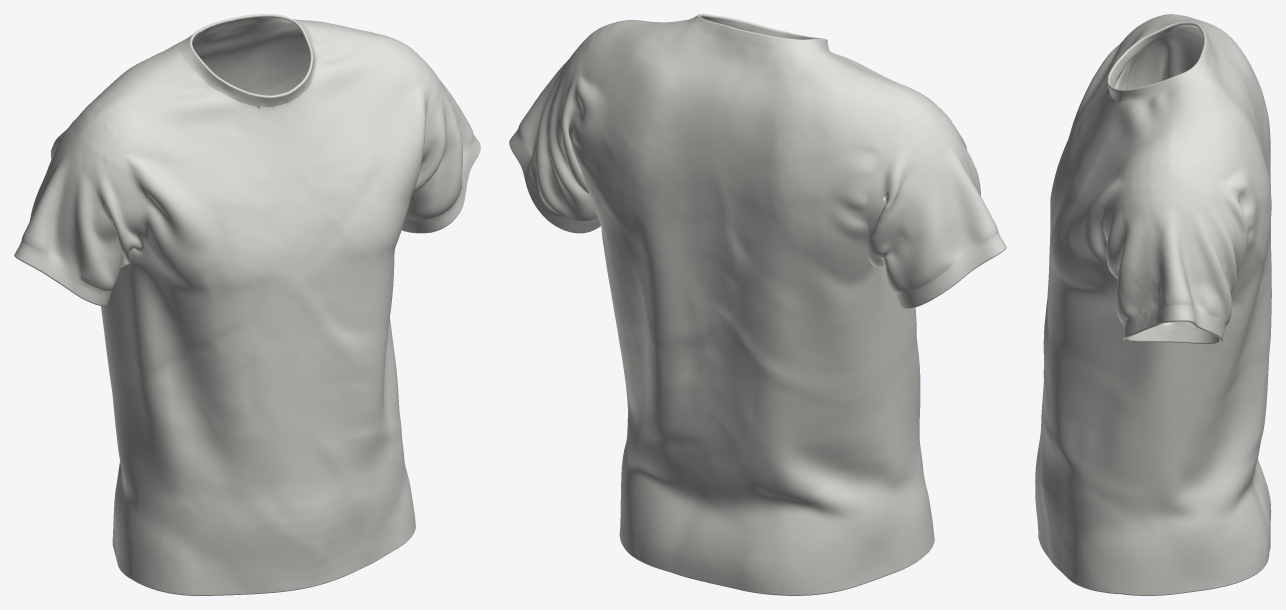
Rendered from camiseta-texturizada-1781881242752.glb.
3 views of the same model, side by side, from view 1: azimuth 30°, elevation 25°; view 2: azimuth 150°, elevation 25°; view 3: azimuth 270°, elevation 25° (orthographic). The views are drawn at different scales.
Visible parts, largest first — view 1: t-shirt.002_2; view 2: t-shirt.002_2; view 3: t-shirt.002_2.
Part boxes in pixels (bbox=[...]): t-shirt.002_2: bbox=[14, 14, 480, 595]; t-shirt.002_2: bbox=[509, 14, 1006, 595]; t-shirt.002_2: bbox=[1035, 14, 1271, 595].
Size of the model in its own units: 23.78 by 24.65 by 10.65.
Materials: 1 (1 with a texture image).
